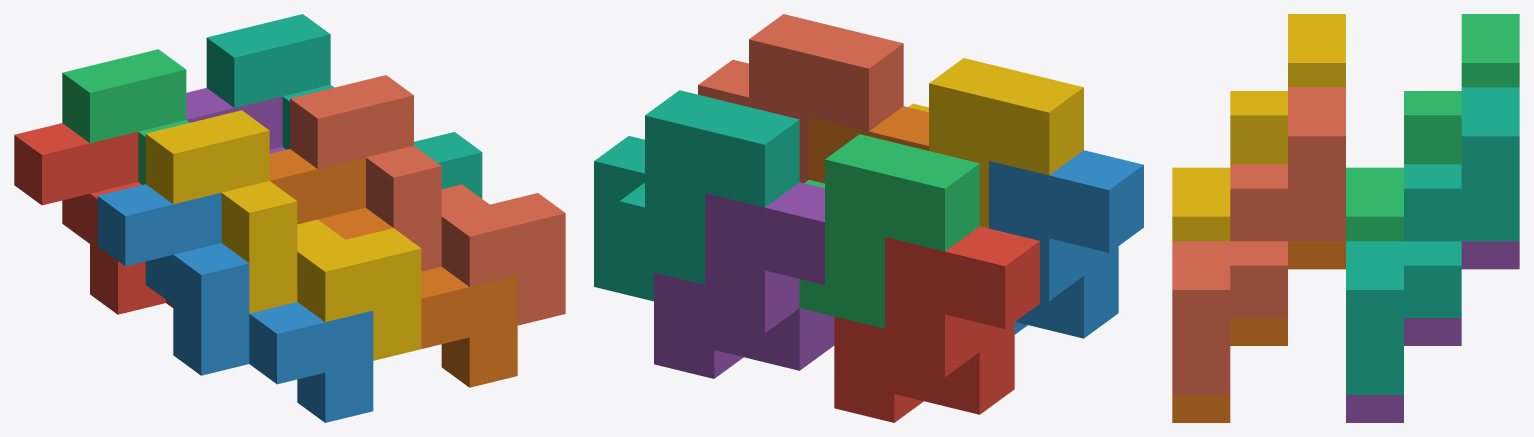
The model's file is tiling.obj.
The picture shows the model from 3 angles, left to right: view 1: azimuth 30°, elevation 25°; view 2: azimuth 150°, elevation 25°; view 3: azimuth 270°, elevation 25°; orthographic projection. The views are drawn at different scales.
Parts seen in each view (by area): view 1: copy_1_domain_4, copy_1_domain_2, copy_1_domain_8, copy_1_domain_6, copy_1_domain_1, copy_1_domain_7, copy_1_domain_3, copy_1_domain_5; view 2: copy_1_domain_1, copy_1_domain_7, copy_1_domain_5, copy_1_domain_3, copy_1_domain_2, copy_1_domain_8, copy_1_domain_4, copy_1_domain_6; view 3: copy_1_domain_7, copy_1_domain_8, copy_1_domain_3, copy_1_domain_4, copy_1_domain_5, copy_1_domain_6.
Boxes of the visible parts, x1,y1,x2,y2 form: copy_1_domain_4: (145,110,421,360); copy_1_domain_2: (97,184,373,422); copy_1_domain_8: (290,75,565,325); copy_1_domain_6: (269,149,517,387); copy_1_domain_1: (14,123,173,314); copy_1_domain_7: (206,14,482,198); copy_1_domain_3: (62,49,189,184); copy_1_domain_5: (186,88,285,153); copy_1_domain_1: (834,226,1039,422); copy_1_domain_7: (594,90,799,301); copy_1_domain_5: (654,182,834,378); copy_1_domain_3: (799,134,979,328); copy_1_domain_2: (989,150,1143,338); copy_1_domain_8: (698,14,903,183); copy_1_domain_4: (908,58,1083,228); copy_1_domain_6: (809,106,928,183); copy_1_domain_7: (1346,87,1519,394); copy_1_domain_8: (1172,87,1345,394); copy_1_domain_3: (1346,14,1519,241); copy_1_domain_4: (1172,14,1345,241); copy_1_domain_5: (1346,241,1519,422); copy_1_domain_6: (1172,241,1345,422).
Size of the model in its own units: 8 by 5 by 6.
